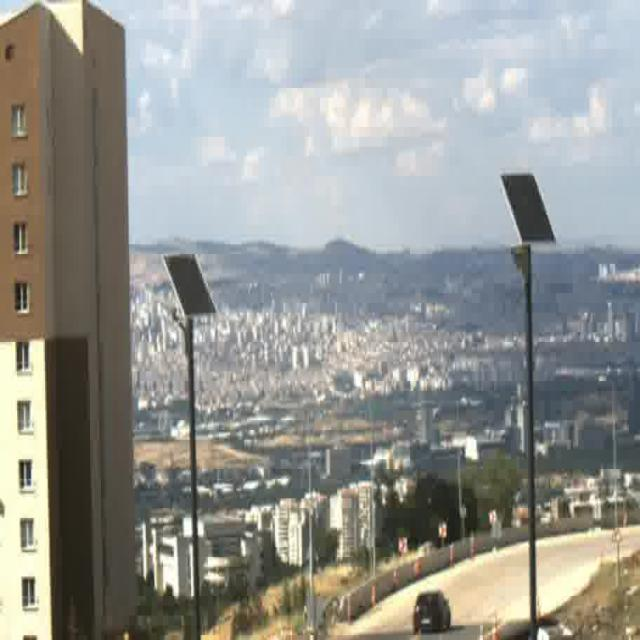Car: (414, 594, 451, 632)
